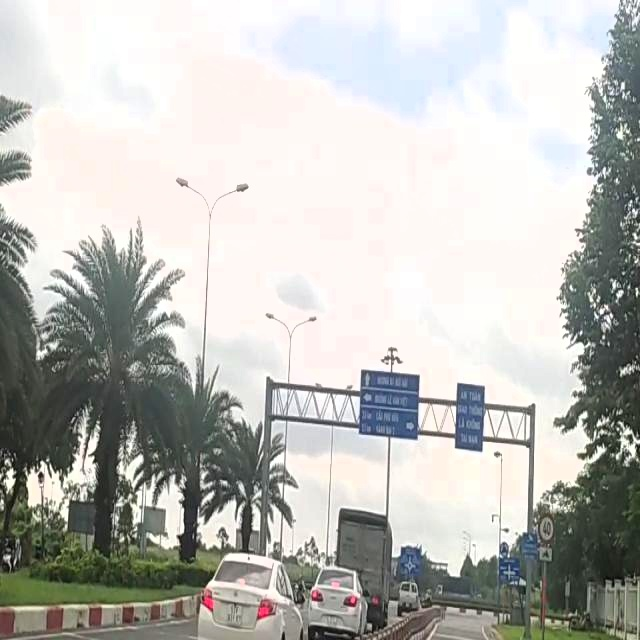P.127*40: (536, 510, 554, 542)
S.505a*Xe may: (539, 544, 553, 564)
